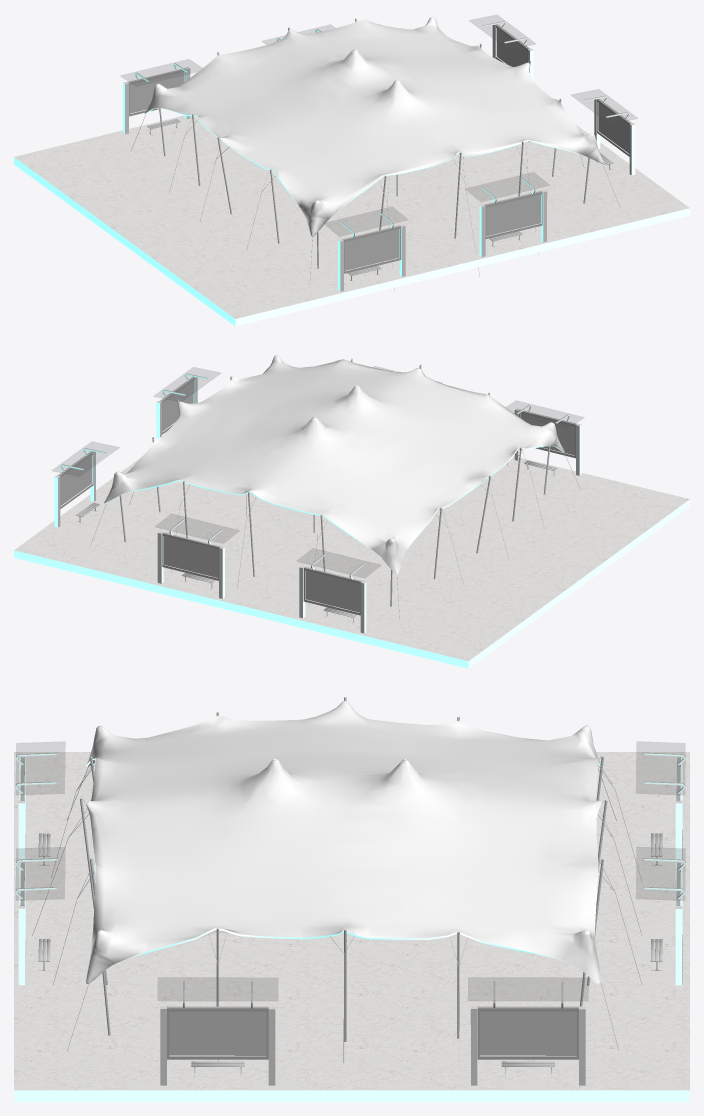
Rendered from Parking.fbx.
The picture shows the model from 3 angles, top to bottom: view 1: azimuth 30°, elevation 25°; view 2: azimuth 150°, elevation 25°; view 3: azimuth 270°, elevation 25°; orthographic projection. The views are drawn at different scales.
Visible parts, largest first — view 1: Cube.003, c1d76243baa841aba95e842cd7277f67.001, Am162_012_13.002, Am162_012_13.004, Am162_012_13.005, Am162_012_13.001, c1d76243baa841aba95e842cd7277f67, Am162_012_13; view 2: Cube.003, c1d76243baa841aba95e842cd7277f67.001, Am162_012_13.005, Am162_012_13.003, Am162_012_13, Am162_012_13.004, c1d76243baa841aba95e842cd7277f67, Am162_012_13.001; view 3: Cube.003, c1d76243baa841aba95e842cd7277f67.001, Am162_012_13.001, Am162_012_13, c1d76243baa841aba95e842cd7277f67, Am162_012_13.003, Am162_012_13.002, Am162_012_13.005, Am162_012_13.004.
Part boxes in pixels (x1,y1,x2,y2): Cube.003: [14, 115, 689, 326]; c1d76243baa841aba95e842cd7277f67.001: [144, 17, 605, 236]; Am162_012_13.002: [466, 172, 549, 256]; Am162_012_13.004: [324, 207, 407, 291]; Am162_012_13.005: [121, 59, 201, 135]; Am162_012_13.001: [571, 89, 637, 175]; c1d76243baa841aba95e842cd7277f67: [130, 18, 620, 289]; Am162_012_13: [469, 15, 535, 80]; Cube.003: [14, 456, 689, 668]; c1d76243baa841aba95e842cd7277f67.001: [104, 355, 564, 574]; Am162_012_13.005: [297, 548, 380, 633]; Am162_012_13.003: [155, 514, 238, 598]; Am162_012_13: [52, 442, 118, 527]; Am162_012_13.004: [506, 401, 583, 476]; c1d76243baa841aba95e842cd7277f67: [90, 358, 580, 620]; Am162_012_13.001: [154, 367, 220, 438]; Cube.003: [14, 752, 689, 1101]; c1d76243baa841aba95e842cd7277f67.001: [86, 701, 601, 983]; Am162_012_13.001: [158, 978, 277, 1085]; Am162_012_13: [468, 978, 588, 1085]; c1d76243baa841aba95e842cd7277f67: [32, 697, 642, 1062]; Am162_012_13.003: [636, 847, 685, 985]; Am162_012_13.002: [15, 847, 64, 985]; Am162_012_13.005: [636, 742, 685, 879]; Am162_012_13.004: [15, 742, 64, 879].
Bounding box in the file's own units: 5437 × 1738 × 4588.
